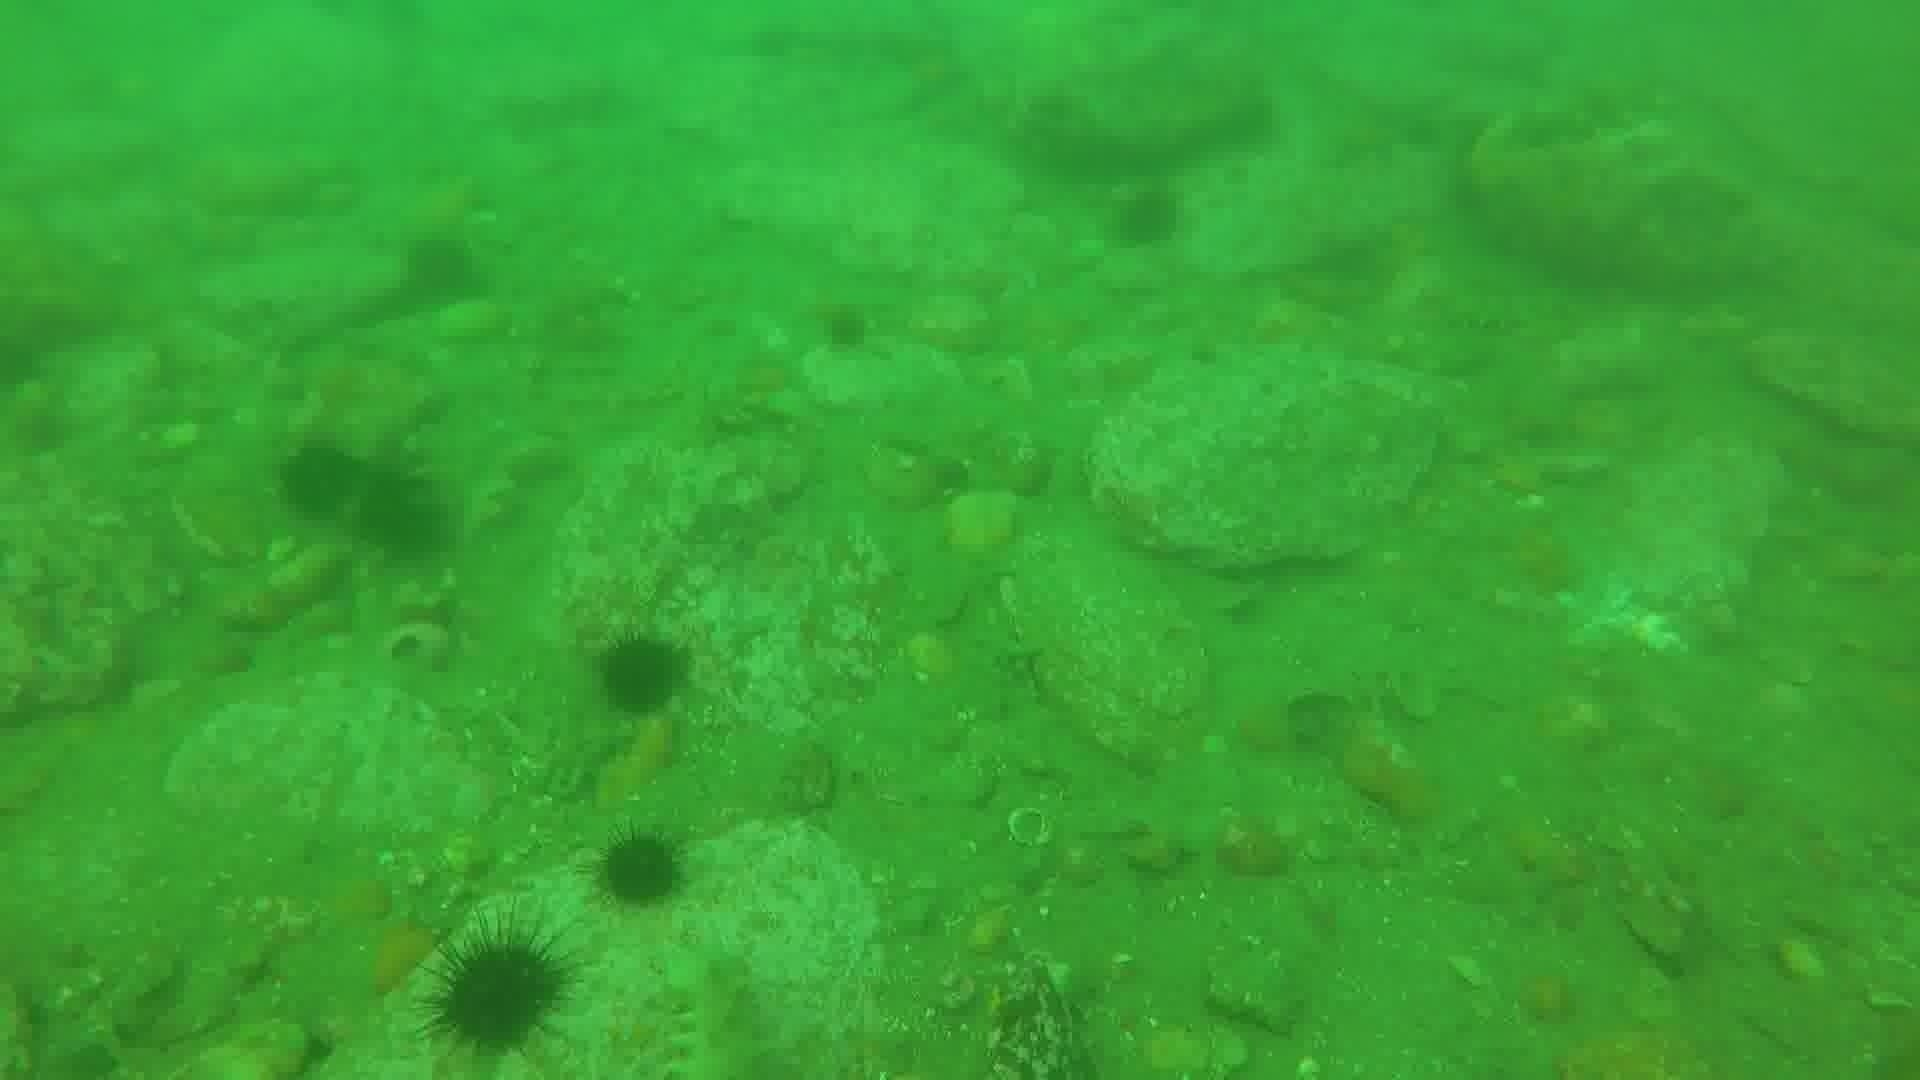echinus: (418, 920, 575, 1062), (347, 462, 455, 564), (591, 628, 692, 721), (589, 825, 690, 914), (273, 436, 367, 524), (398, 232, 485, 310), (1106, 182, 1188, 253), (814, 301, 877, 357)
holothurian: (657, 938, 771, 1080)
starfish: (357, 166, 491, 258), (725, 345, 806, 407)
